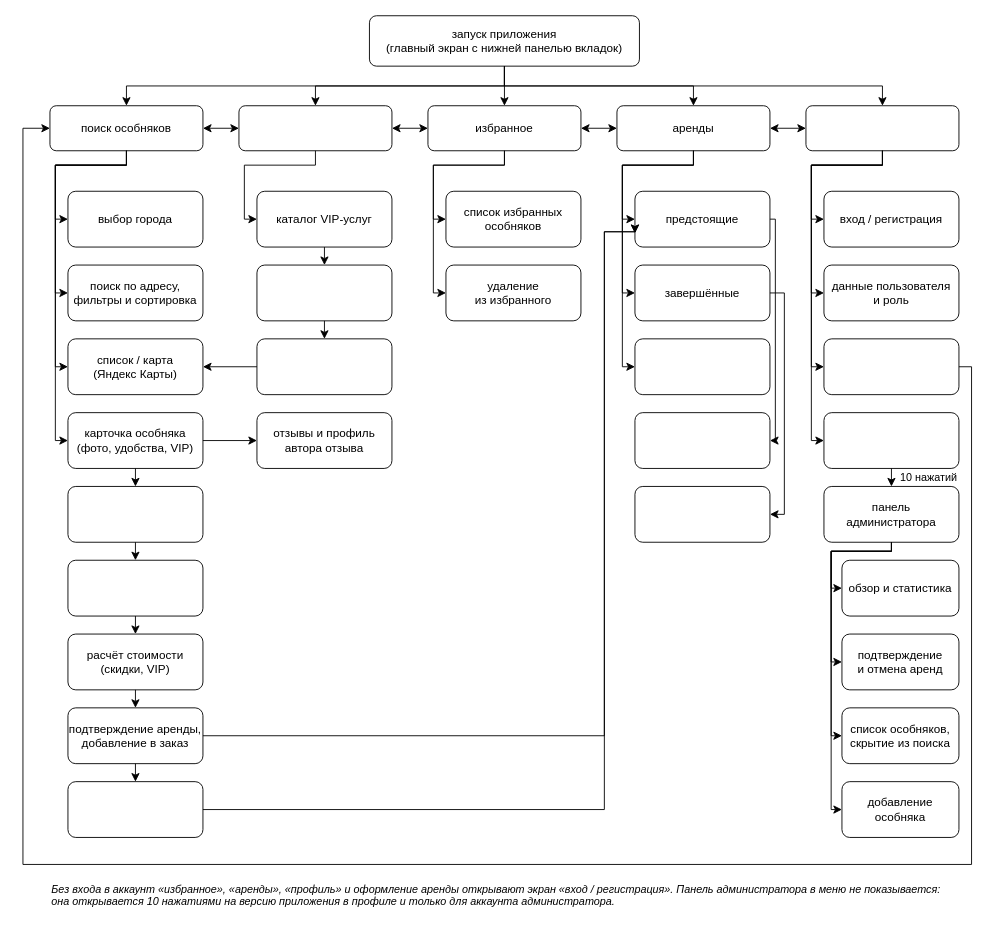
Some shapes in this 995 by 929 pixel diagram are drawn without their labels. The box of each missing label's shape, as (x1, y1, x2, y2) in pixels:
VIP-услуги: (238, 105, 392, 151)
версия приложения: (823, 412, 959, 468)
выбор VIP-услуг: (67, 559, 203, 616)
выбор дат и количества гостей: (67, 486, 203, 542)
выбор особняка для аренды: (256, 338, 392, 395)
выход из аккаунта: (823, 338, 959, 395)
отзыв о проживании: (634, 486, 770, 542)
отмена аренды: (634, 412, 770, 468)
отменённые: (634, 338, 770, 395)
оформление общего заказа: (67, 781, 203, 837)
пакет «всё включено» и цены: (256, 264, 392, 321)
профиль: (805, 105, 959, 151)
